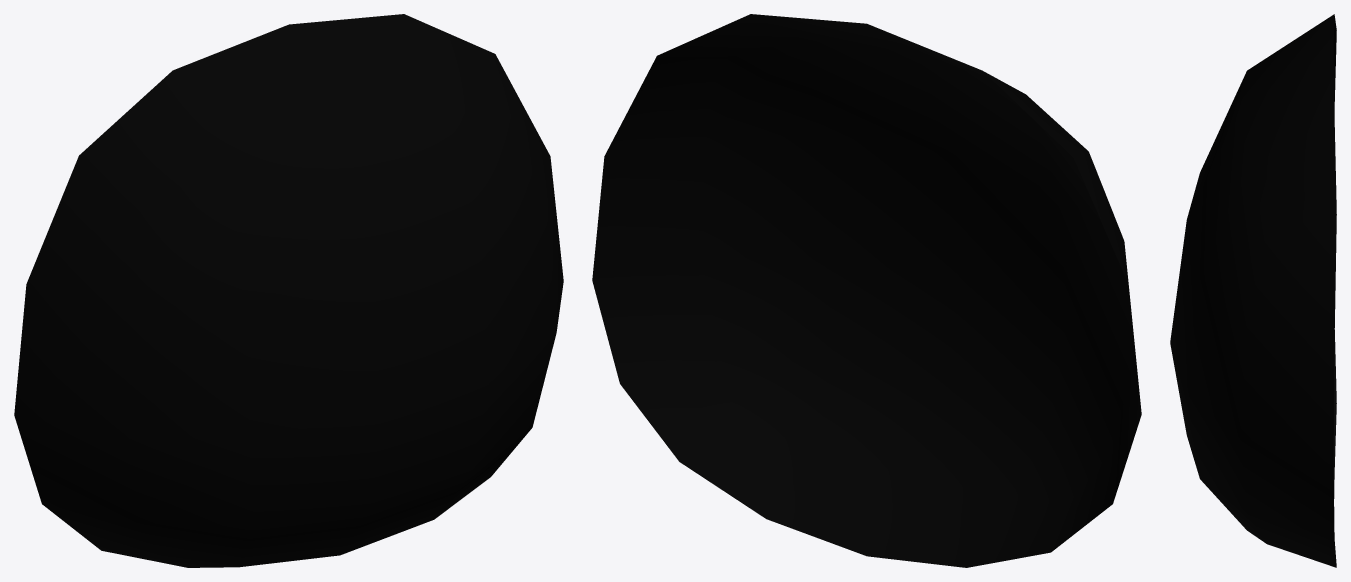
Rendered from HappyFace.glb.
The picture shows the model from 3 angles, left to right: view 1: azimuth 30°, elevation 25°; view 2: azimuth 150°, elevation 25°; view 3: azimuth 270°, elevation 25°; orthographic projection. The views are drawn at different scales.
Parts seen in each view (by area): view 1: face; view 2: face; view 3: face.
Part boxes in pixels (x1,y1,x2,y2): face: (14, 14, 563, 567); face: (592, 14, 1141, 567); face: (1170, 14, 1336, 567).
Bounding box in the file's own units: 0.1507 × 0.1396 × 0.0437.
Materials: 1 (1 with a texture image).
